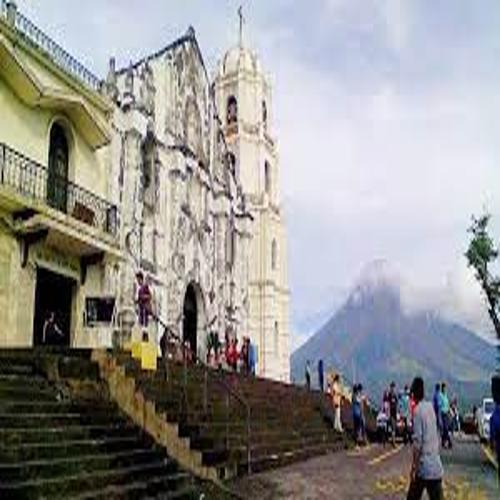Daraga Church: (102, 2, 295, 388)
